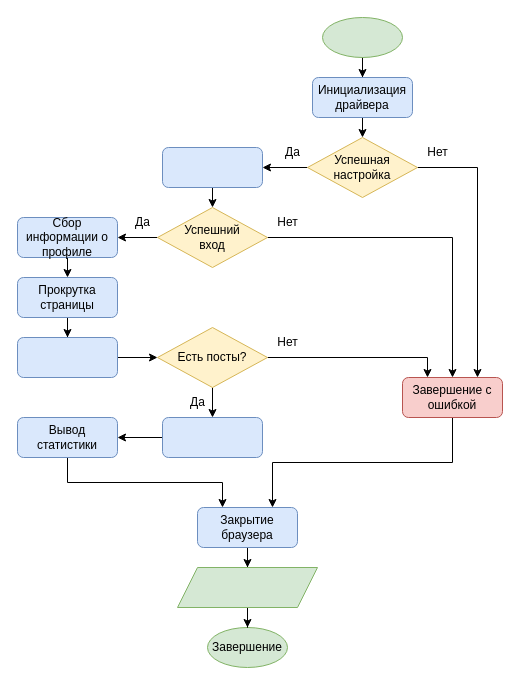
Some shapes in this 520 by 685 pixel diagram are drawn without their labels. The shapes that lost their labels are listed below. From the top down, each one's centre as x and y in pixels, then its label:
At pixel 362 37: "Начало".
At pixel 212 167: "Авторизация".
At pixel 67 357: "Сбор постов".
At pixel 212 437: "Сохранение в JSON".
At pixel 247 587: "Разметка данных с помощью модели".
